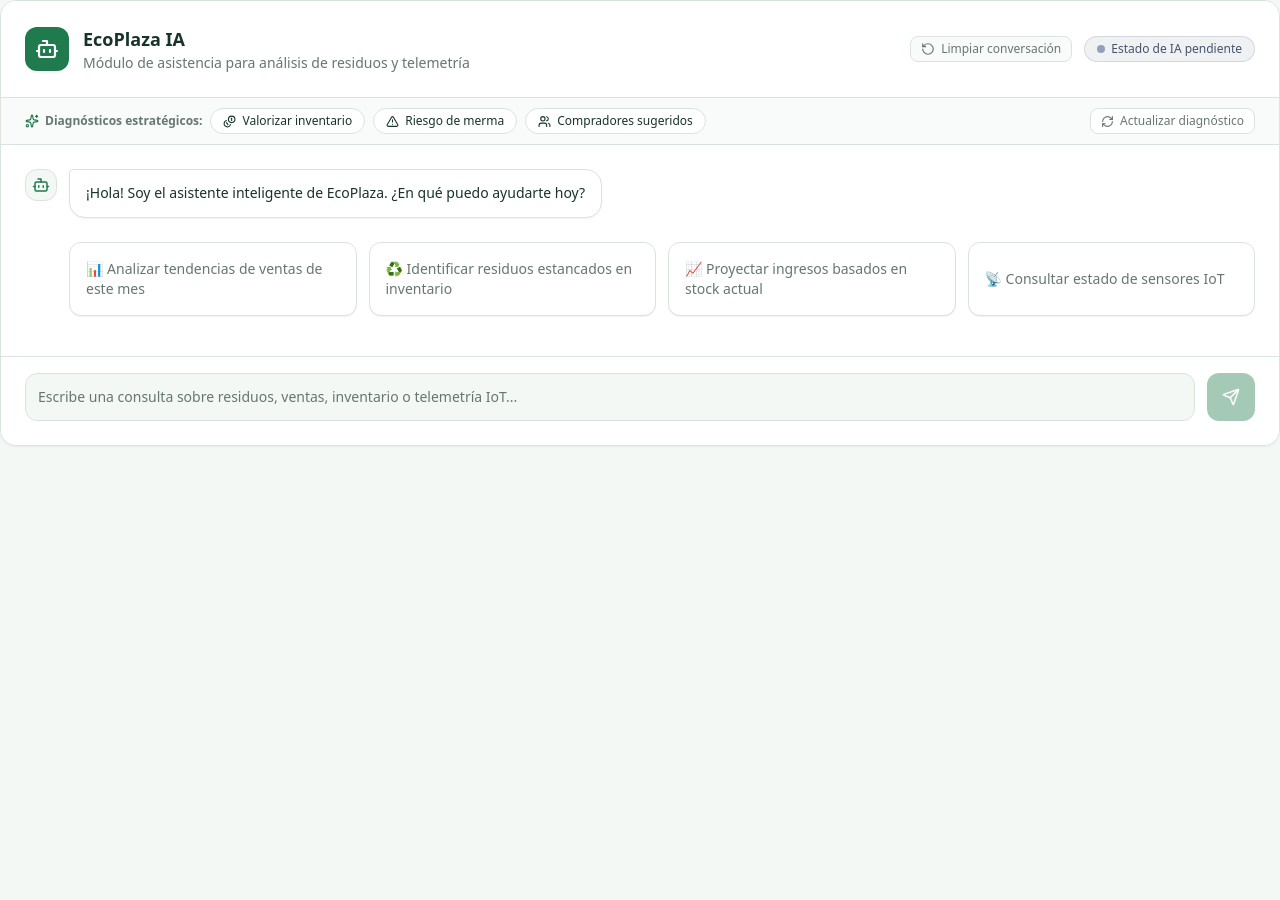
Scenario: AssistantPanel con Motor de Diagnósticos Estratégicos (Tarea 088) › k) renderiza las categorías de residuos con etiquetas limpias en español en la Valorización de Stock sin claves crudas
What coordinates should you click on to do the following:
click the button "Valorizar inventario"
I would click on:
 (288, 121)
Its box is x1=210 y1=108 x2=365 y2=134.
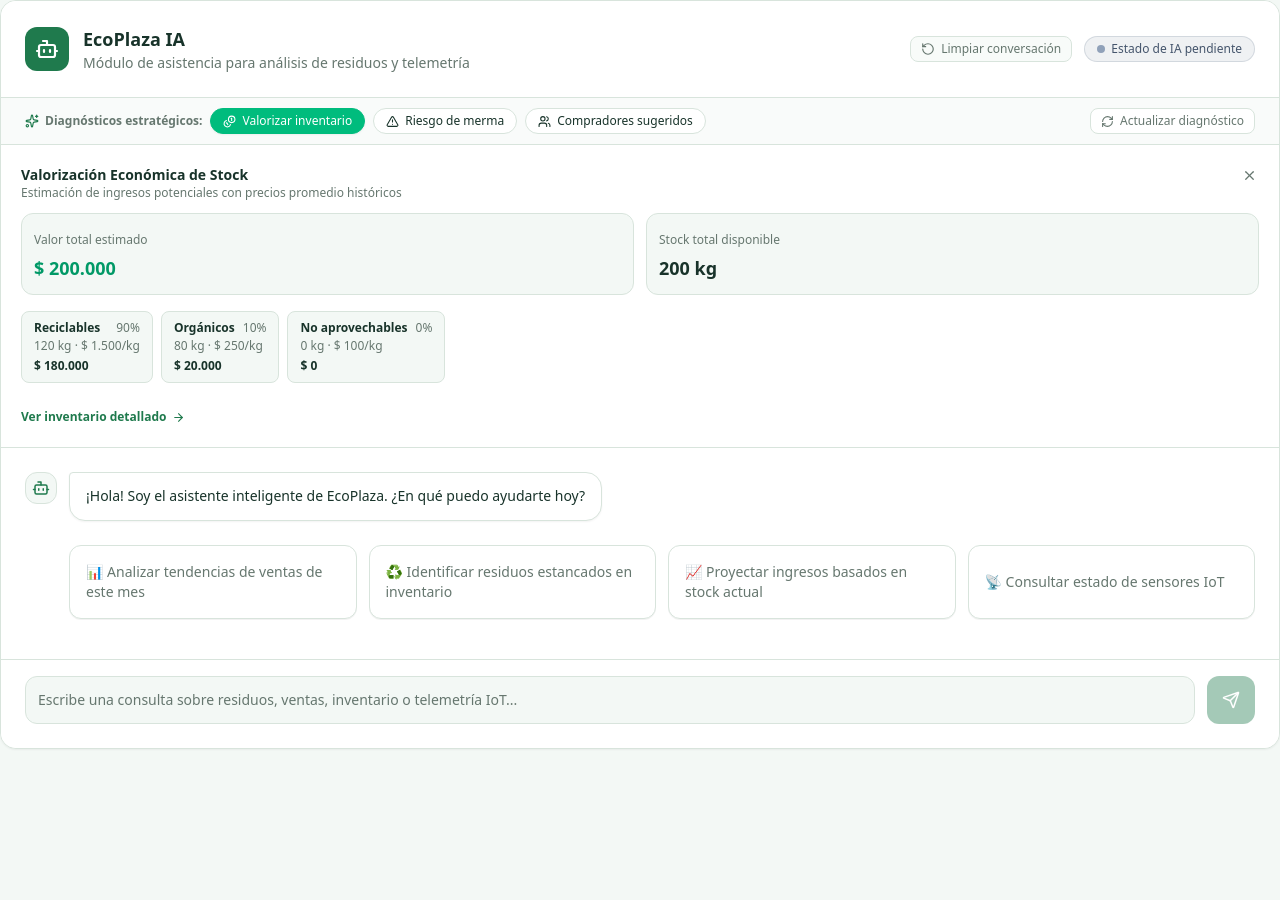
Check: the text "Reciclables" is shown, box x1=34 y1=320 x2=100 y2=336
Check: the text "Orgánicos" is shown, box x1=174 y1=320 x2=235 y2=336
